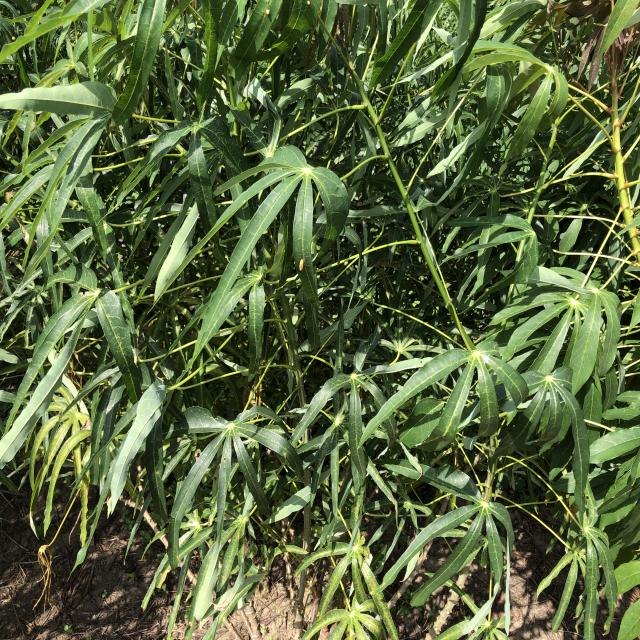Mosca: (292, 253, 309, 272)
